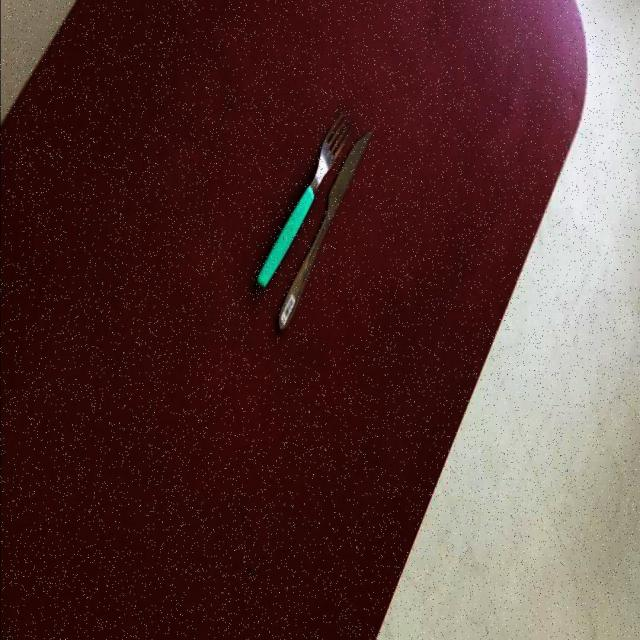Fork: (255, 109, 354, 289)
Knife: (278, 128, 374, 330)
